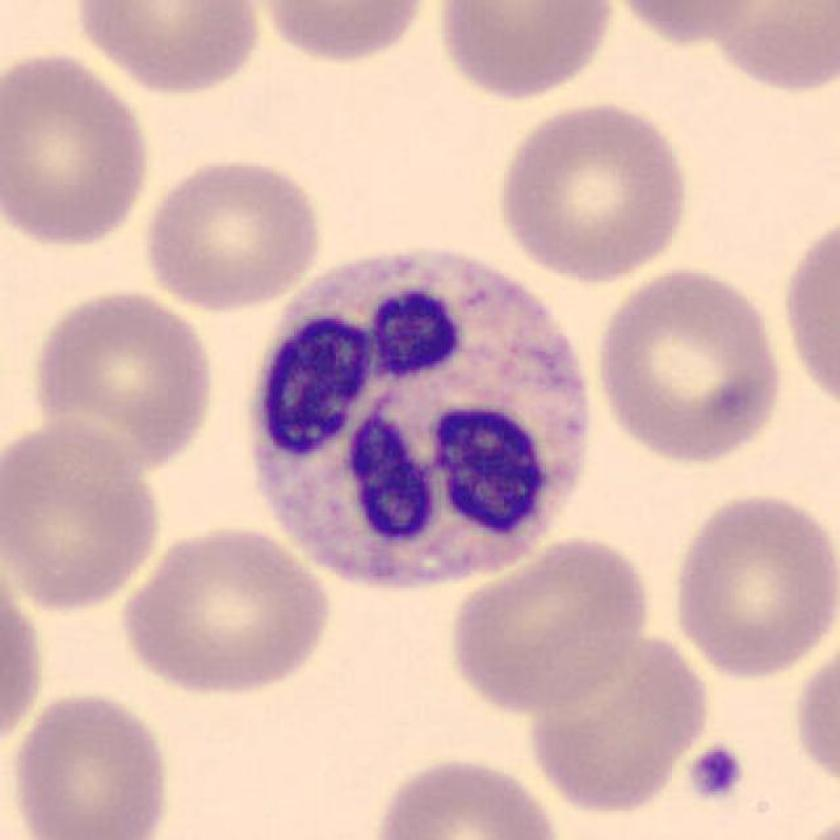neutrophil: (252, 252, 588, 586)
